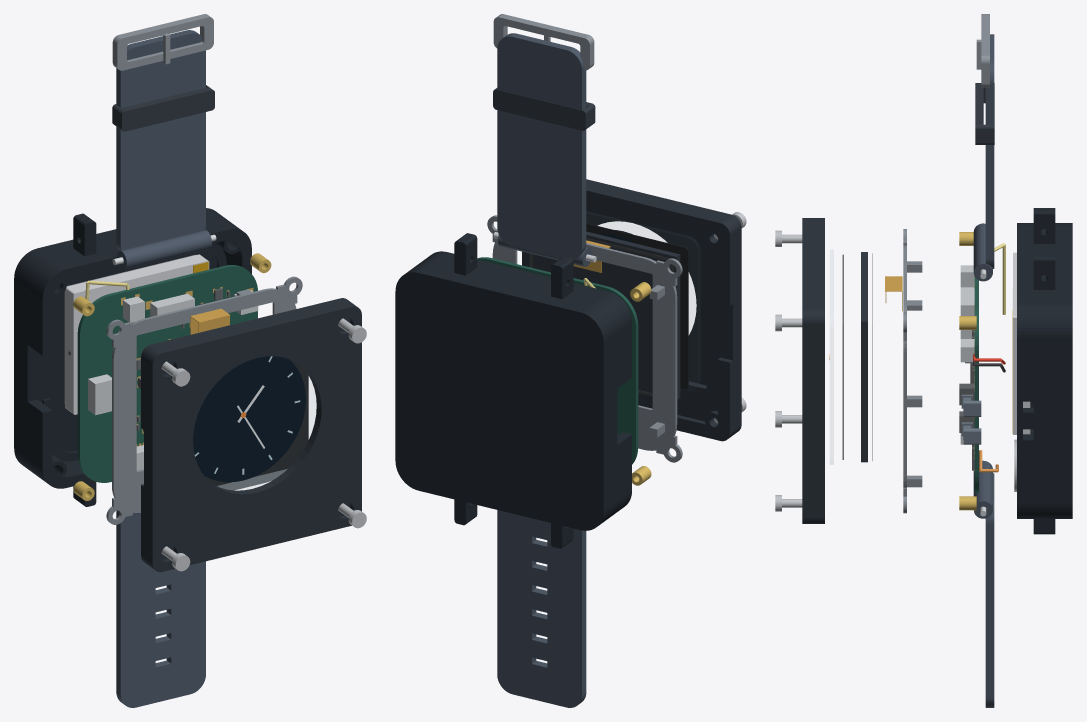
The model's file is exploded-assembly.glb.
The picture shows the model from 3 angles, left to right: view 1: azimuth 30°, elevation 25°; view 2: azimuth 150°, elevation 25°; view 3: azimuth 270°, elevation 25°; orthographic projection. The views are drawn at different scales.
Visible parts, largest first — view 1: bezel, case-base, strap-30, strap--30, display-preview-face, pcb, display-retainer, battery, strap-keeper, strap-buckle, lens-bond, J1 (+2 smaller); view 2: case-base, strap-30, bezel, strap--30, display-retainer, display, pcb, strap-keeper, lens-bond, strap-buckle; view 3: case-base, bezel, strap--30, strap-30, display-retainer, display, pcb, strap-keeper, battery, strap-buckle.
Part boxes in pixels (x1,y1,x2,y2): bezel: [141, 298, 361, 572]; case-base: [14, 208, 251, 506]; strap-30: [116, 30, 211, 269]; strap--30: [116, 510, 205, 707]; display-preview-face: [193, 356, 305, 482]; pcb: [77, 265, 257, 482]; display-retainer: [106, 276, 302, 524]; battery: [65, 254, 209, 414]; strap-keeper: [112, 85, 214, 131]; strap-buckle: [112, 14, 213, 70]; lens-bond: [204, 359, 308, 485]; J1: [88, 374, 111, 415]; case-base: [395, 233, 631, 548]; strap-30: [497, 33, 592, 266]; bezel: [522, 179, 741, 441]; strap--30: [497, 510, 586, 707]; display-retainer: [487, 215, 682, 462]; display: [533, 231, 680, 399]; pcb: [477, 257, 638, 464]; strap-keeper: [493, 88, 595, 130]; lens-bond: [586, 223, 688, 389]; strap-buckle: [493, 14, 594, 70]; case-base: [1017, 208, 1072, 534]; bezel: [802, 218, 824, 523]; strap--30: [973, 460, 994, 707]; strap-30: [973, 34, 994, 281]; display-retainer: [903, 229, 922, 513]; display: [861, 252, 867, 462]; pcb: [974, 277, 978, 492]; strap-keeper: [975, 83, 994, 144]; battery: [1013, 252, 1030, 434]; strap-buckle: [981, 14, 989, 87].
Size of the model in its own units: 55.6 by 166 by 68.2.
